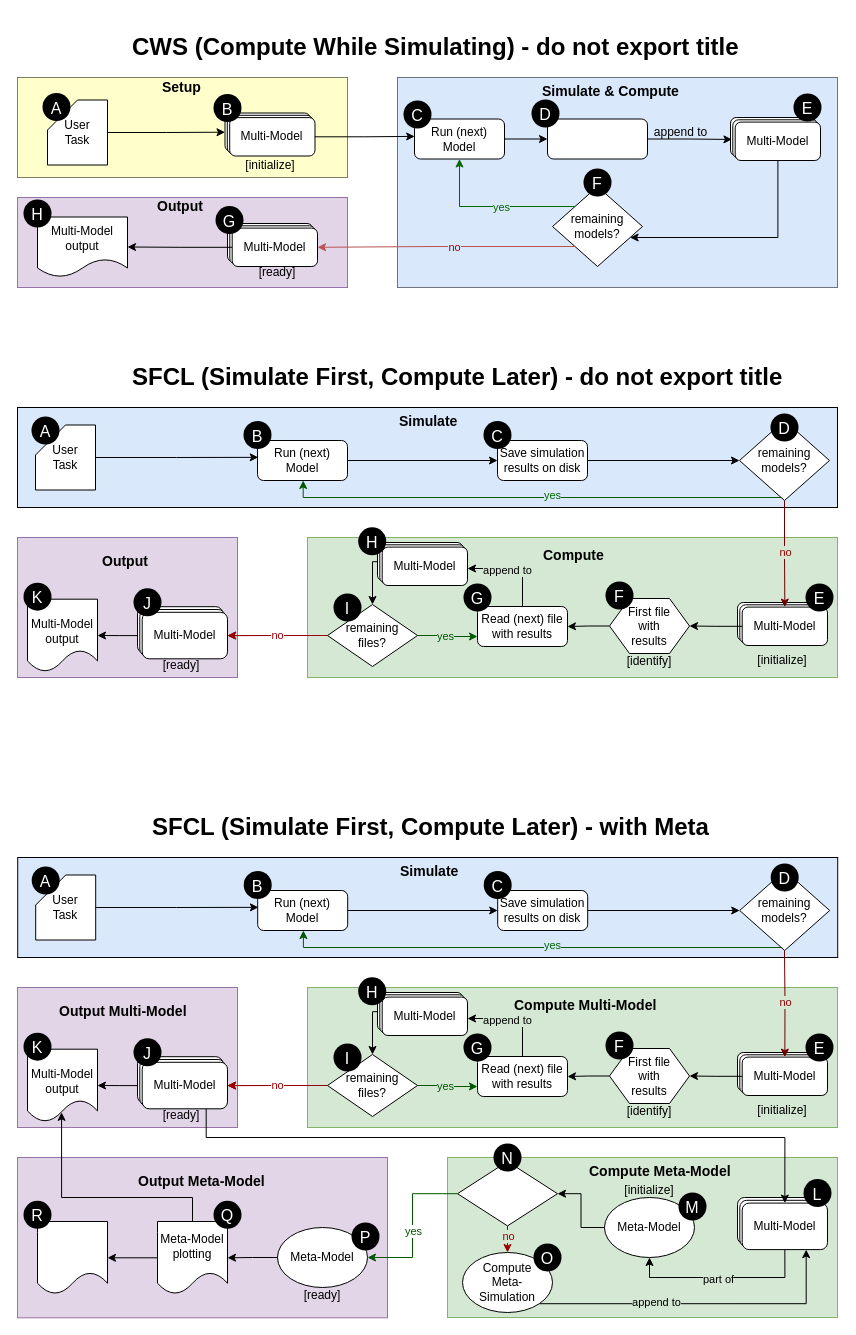
This 856x1335 diagram has some shape labels left out. Here are the shapes that lost their labels. From the top down, the centre of each, then its label:
At point 597,138: "Save Simulation Results".
At point 507,1193: "Meta-Model ready?".
At point 72,1257: "Meta-Model output".
